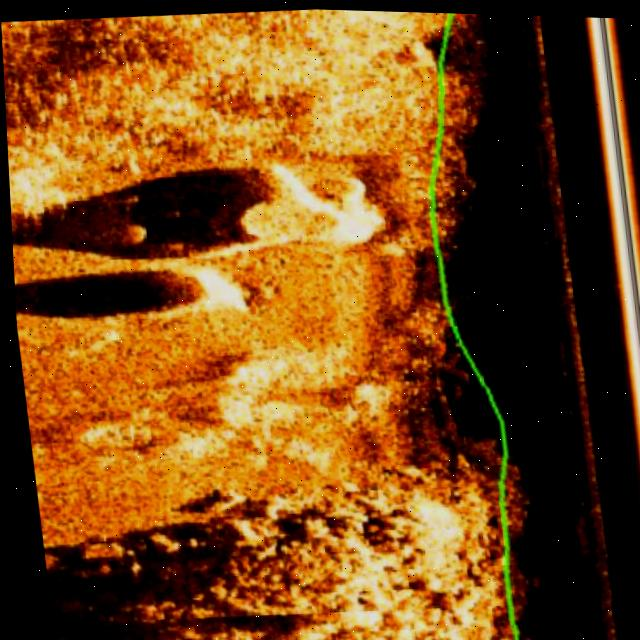bedrock group: (4, 99, 485, 640)
